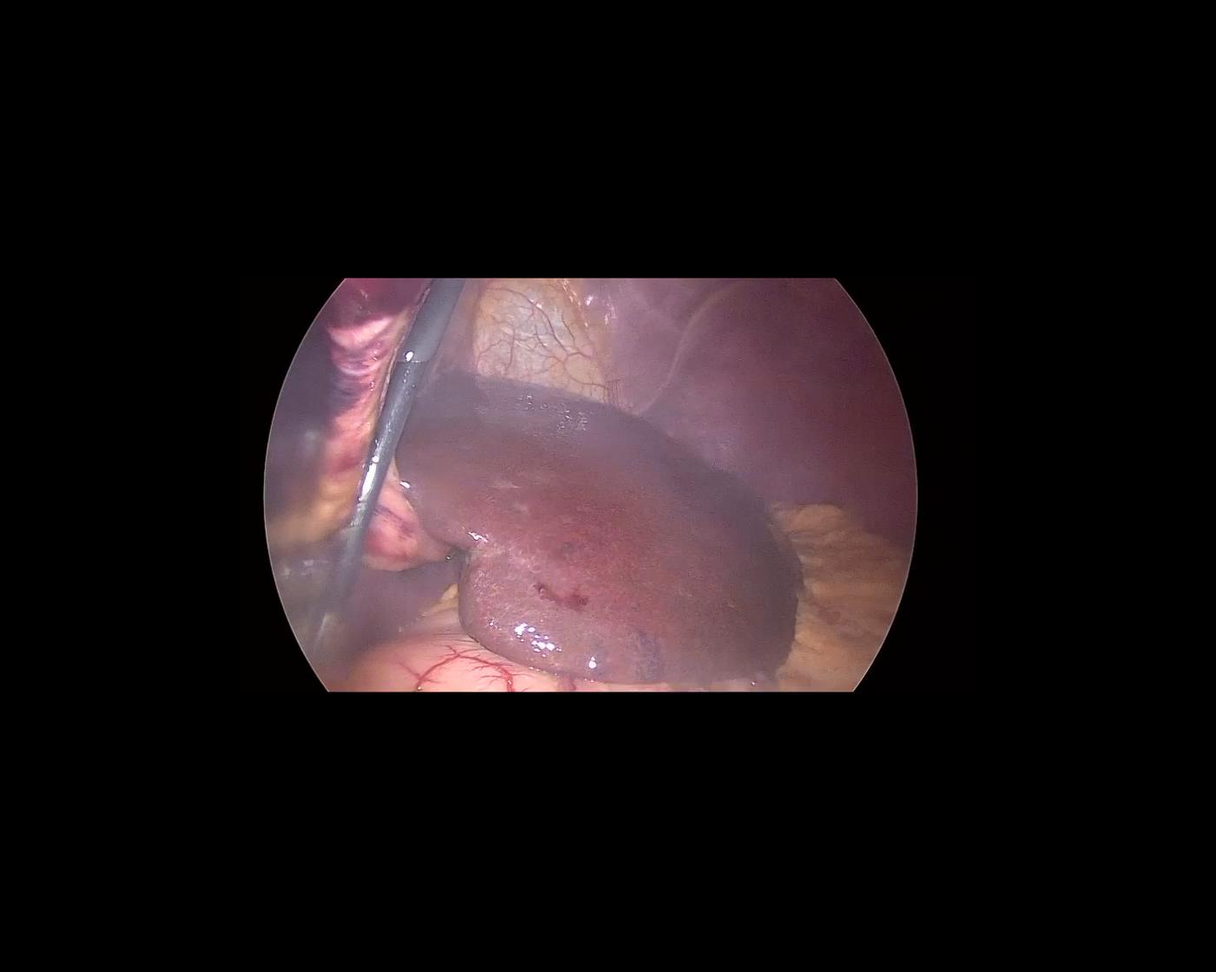Forceps: (296, 352, 431, 662)
Liver: (343, 348, 844, 744)
